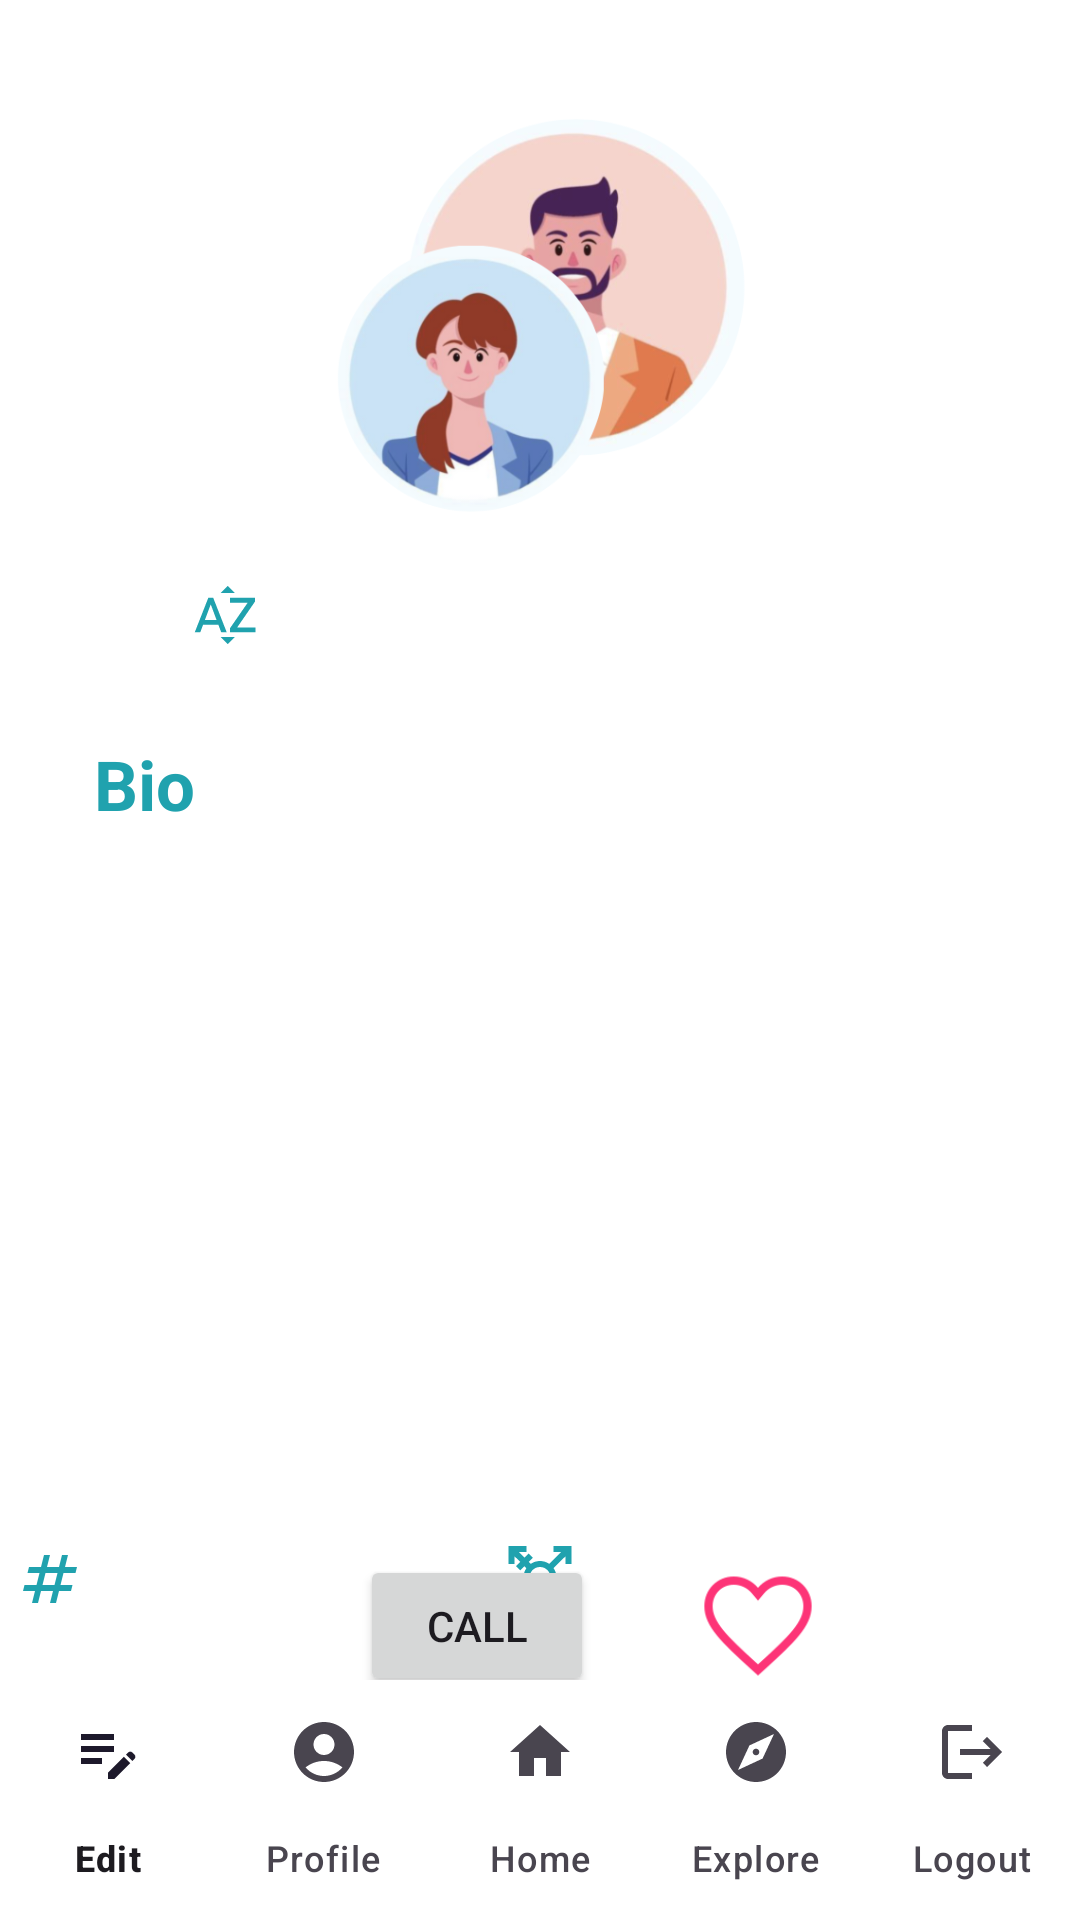

Locate icon controls on the screen. Image size 1080*1920, boxes as (x1, y1, x2, y2).
heart: (704, 1576, 812, 1676)
